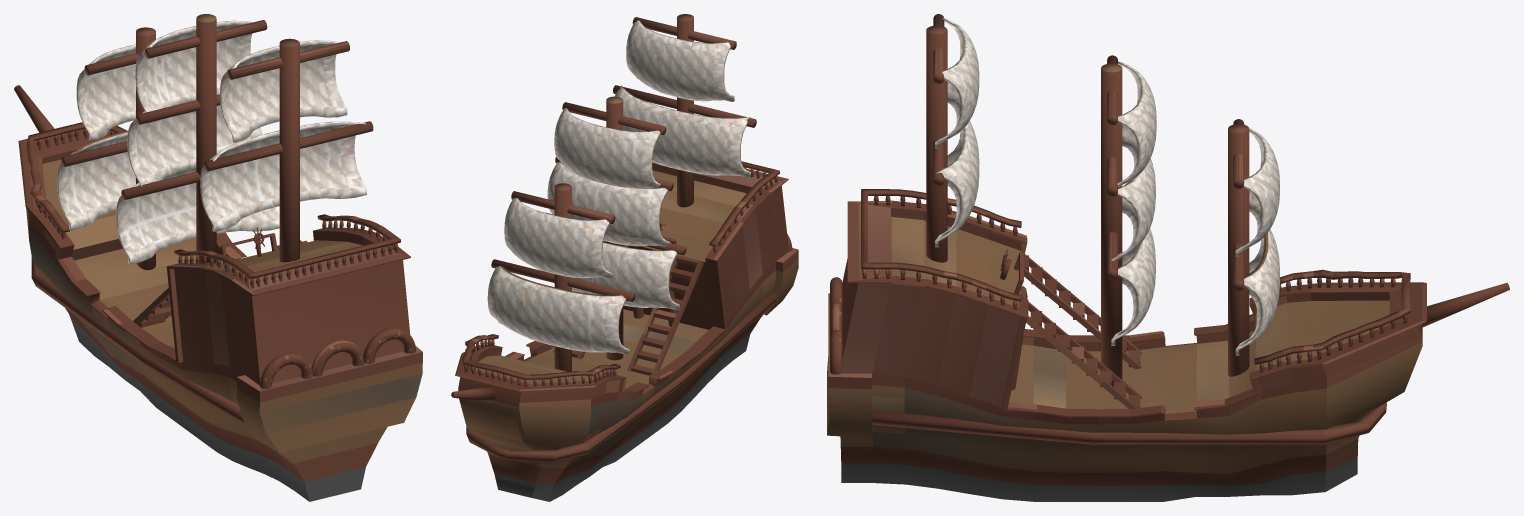
The model's file is barco+animacion.fbx.
3 views of the same model, side by side, from view 1: azimuth 30°, elevation 25°; view 2: azimuth 150°, elevation 25°; view 3: azimuth 270°, elevation 25° (orthographic). The views are drawn at different scales.
Parts seen in each view (by area): view 1: Cylinder.097; view 2: Cylinder.097; view 3: Cylinder.097.
Boxes of the visible parts, x1,y1,x2,y2 form: Cylinder.097: [14, 14, 422, 501]; Cylinder.097: [451, 14, 798, 501]; Cylinder.097: [827, 14, 1509, 501].
Size of the model in its own units: 813 by 2027 by 2735.
Materials: 5 (4 with a texture image).
